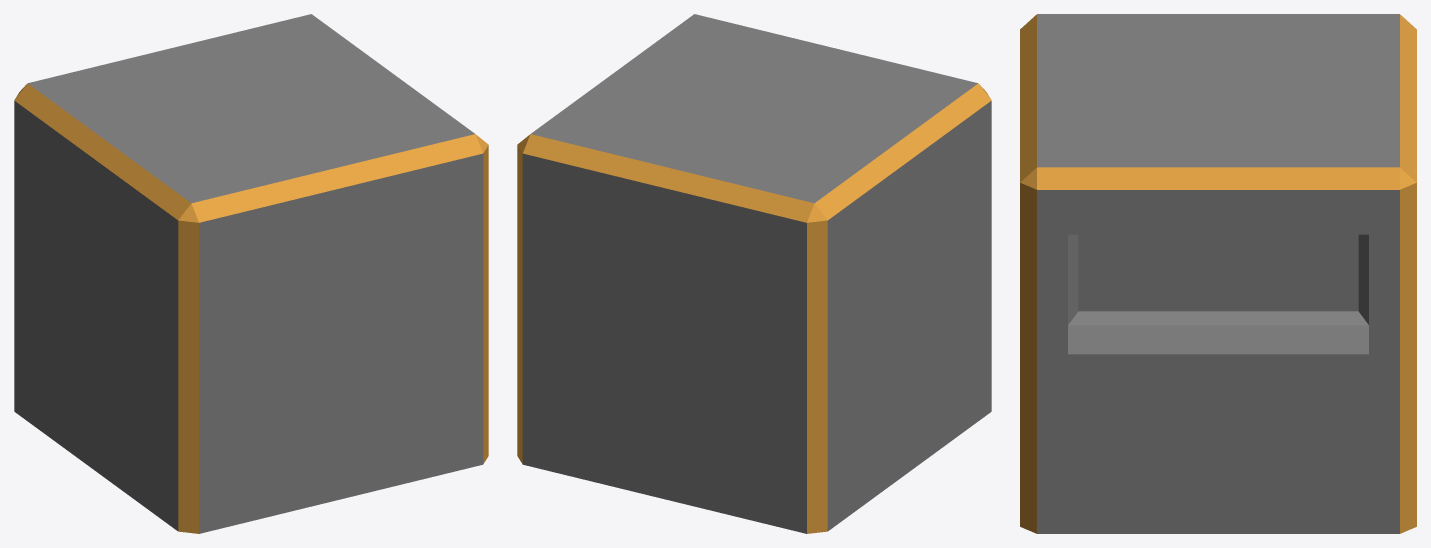
Rendered from smelting.glb.
3 views of the same model, side by side, from view 1: azimuth 30°, elevation 25°; view 2: azimuth 150°, elevation 25°; view 3: azimuth 270°, elevation 25° (orthographic). The views are drawn at different scales.
Parts seen in each view (by area): view 1: Cube; view 2: Cube; view 3: Cube.
Boxes of the visible parts, <box> form: Cube: <box>14,14,488,533</box>; Cube: <box>517,14,991,533</box>; Cube: <box>1020,14,1416,533</box>.
Bounding box in the file's own units: 100 × 100 × 100.
